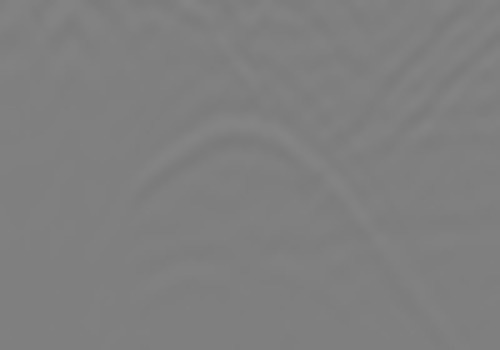hyperbola: (75, 109, 436, 314)
